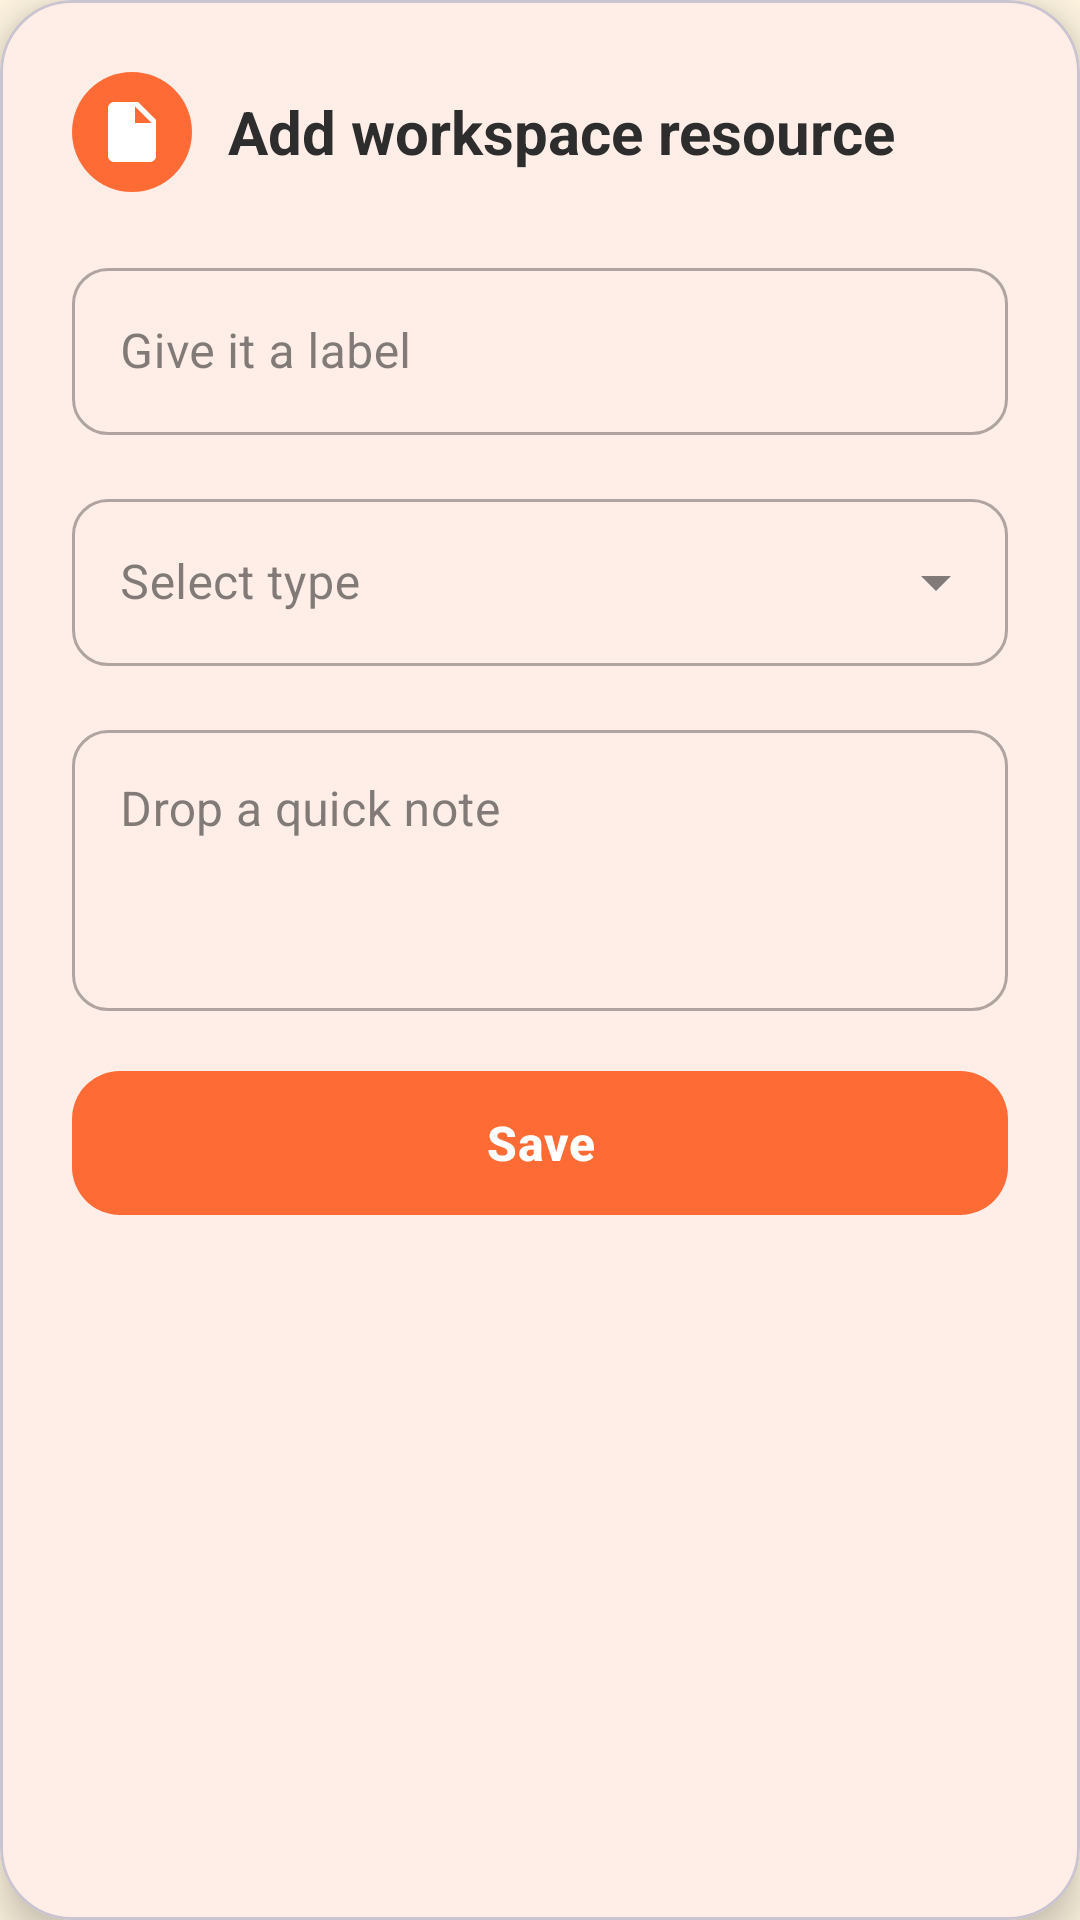

Icons on this 1080 × 1920 Android screen, each with its box as [left=x1, top=y1, right=x2, bottom=y2]:
resource file: [left=72, top=72, right=192, bottom=192]
